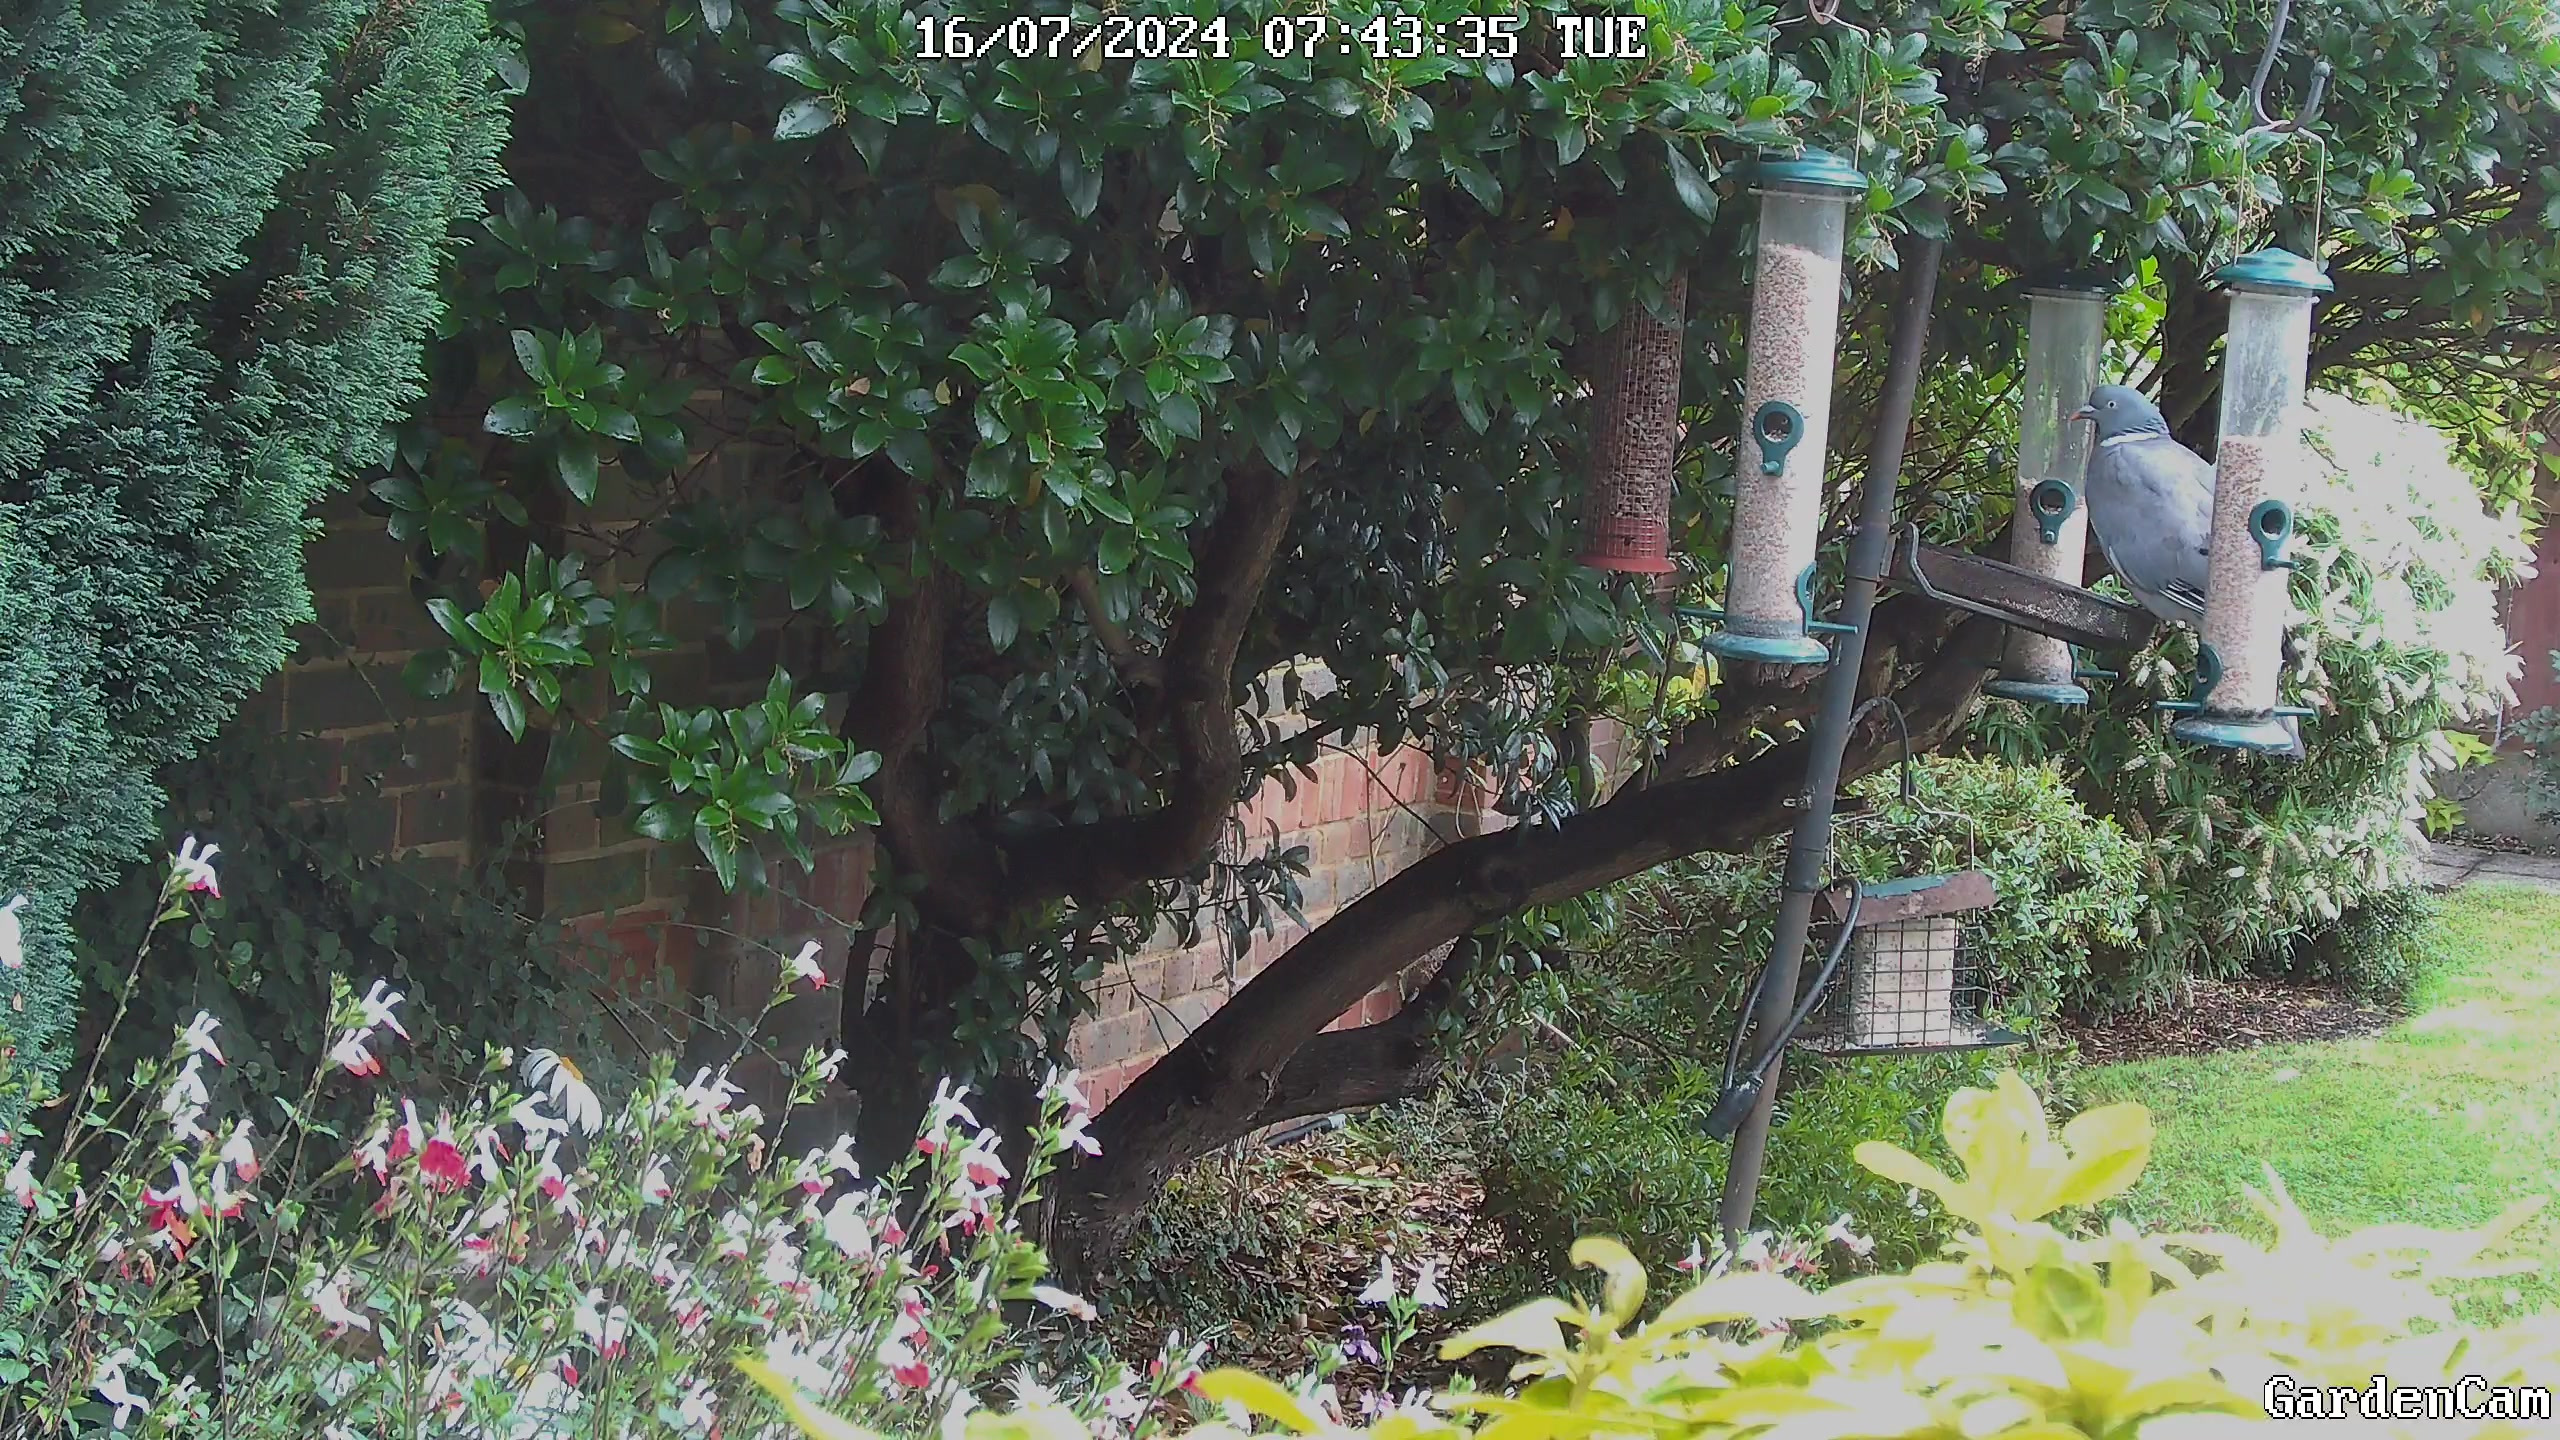Wood_Pigeon: (2055, 366, 2214, 668)
